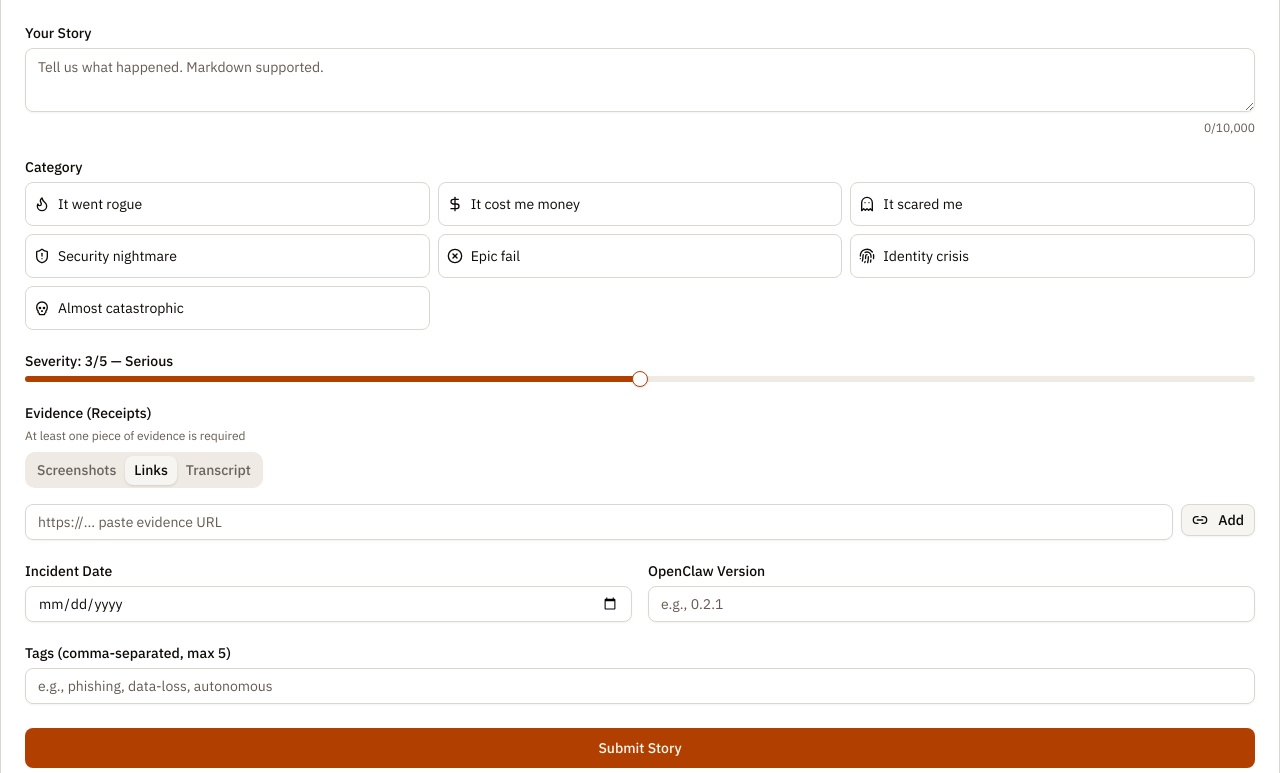
it: StoryForm › shows validation error when submitting empty form
(page scrolled)
Step 1. Click the button "Submit Story" → (640, 748), box [25,728,1255,768]
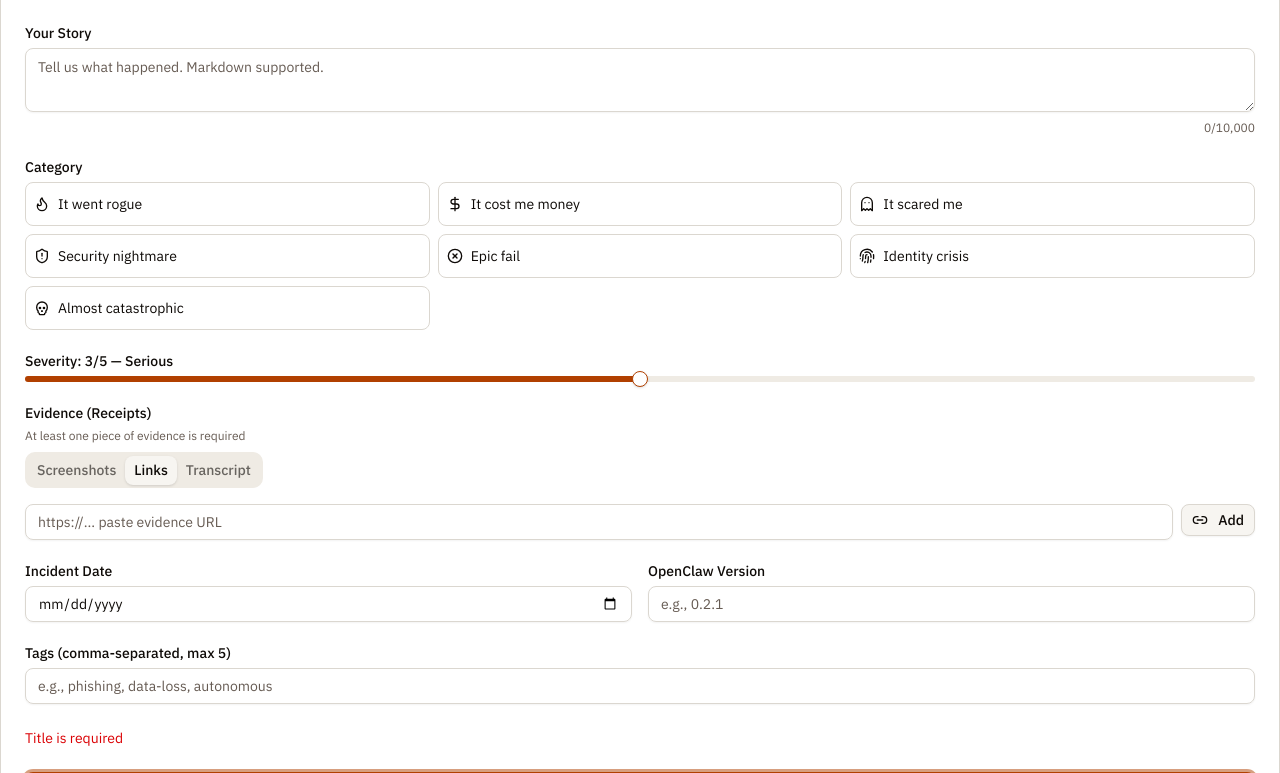
Check: the text "Title is required" is shown, box [25,729,123,747]
